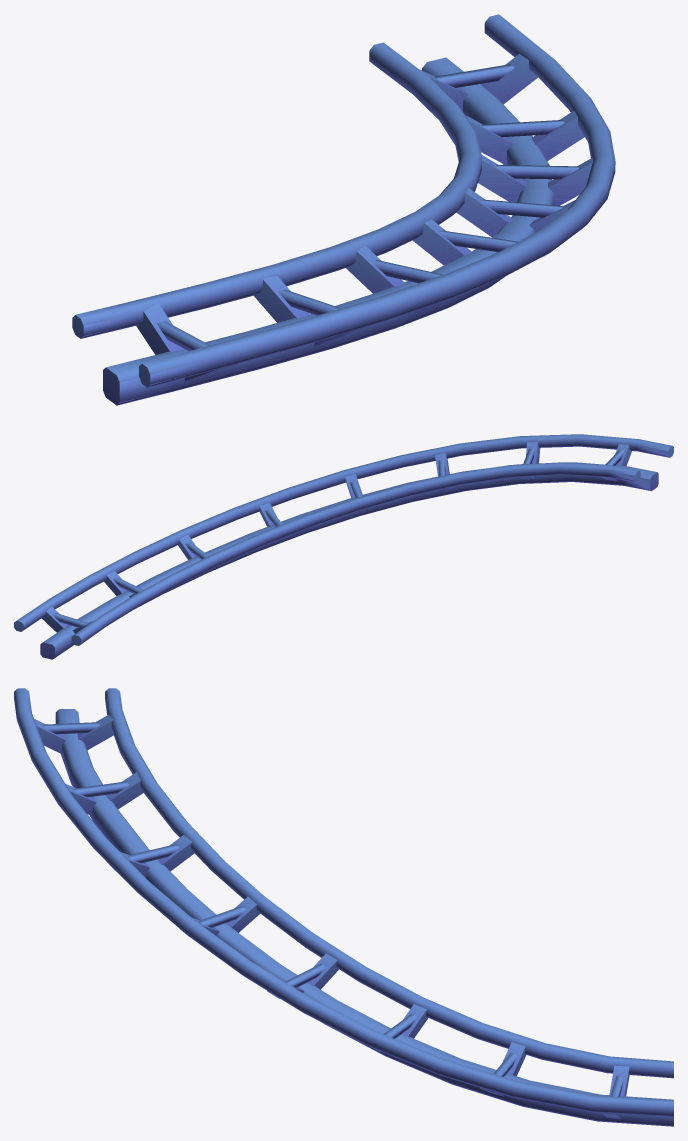
The model's file is coaster-steel-corner-large-ramp.glb.
3 renders of one model, top to bottom at view 1: azimuth 30°, elevation 25°; view 2: azimuth 150°, elevation 25°; view 3: azimuth 270°, elevation 25°, orthographic. The views are drawn at different scales.
Visible parts, largest first — view 1: coaster-steel-corner-large-ramp; view 2: coaster-steel-corner-large-ramp; view 3: coaster-steel-corner-large-ramp.
Boxes of the visible parts, <box> form: coaster-steel-corner-large-ramp: <box>72,14,615,405</box>; coaster-steel-corner-large-ramp: <box>14,434,673,659</box>; coaster-steel-corner-large-ramp: <box>14,688,673,1126</box>.
Size of the model in its own units: 13.05 by 3.9 by 13.05.
Materials: 1 (1 with a texture image).
